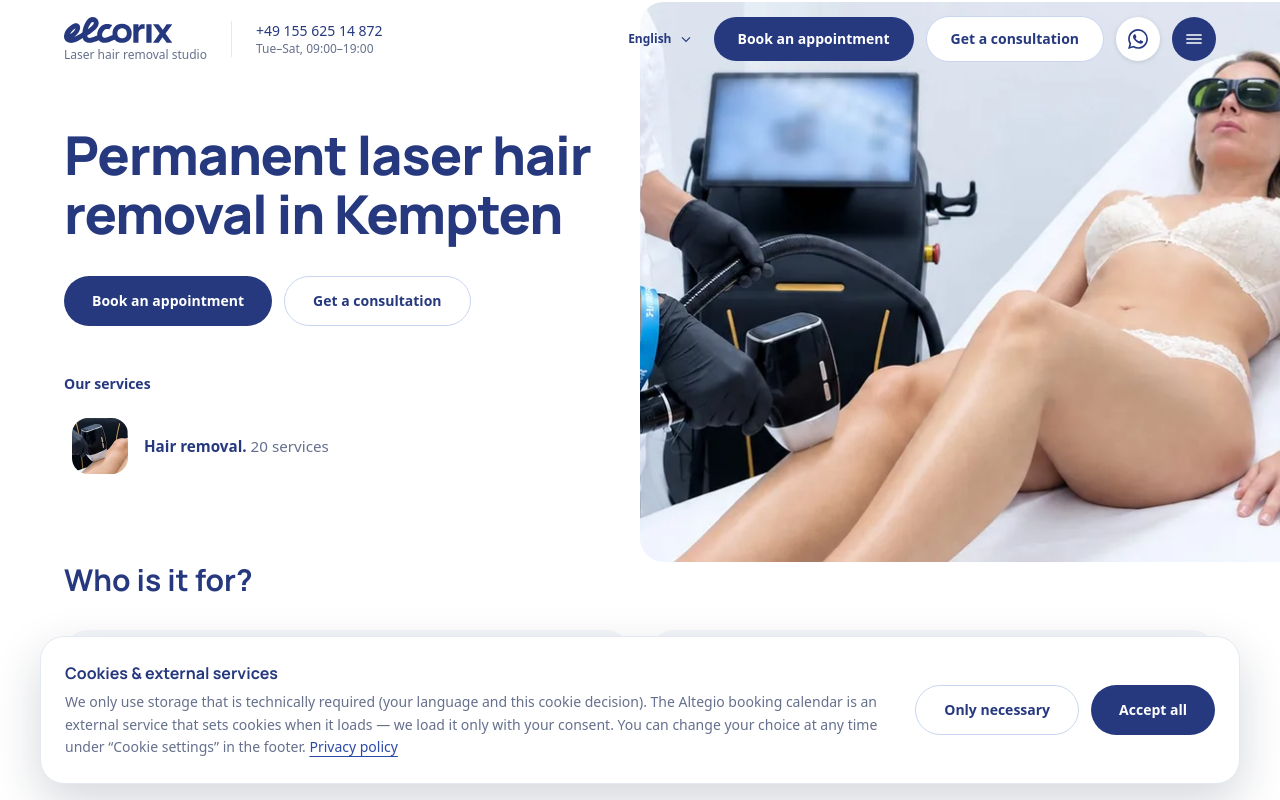
Test: internationalization › switches nav labels to German and persists the choice
Step 1. Click the button with aria-label "Language" → {"x": 661, "y": 39}, box [620,23,702,55]
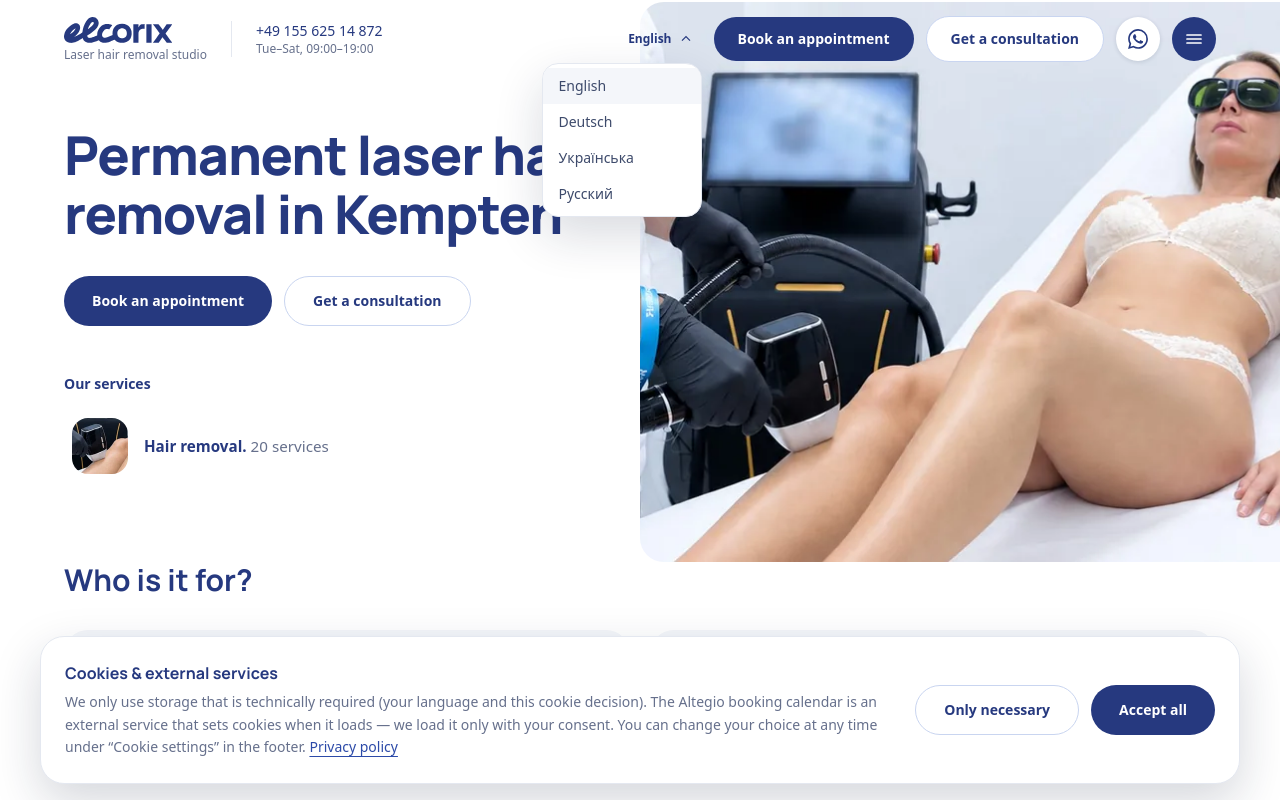
Step 2. Click the option "Deutsch" → {"x": 585, "y": 122}, box [558,112,612,131]
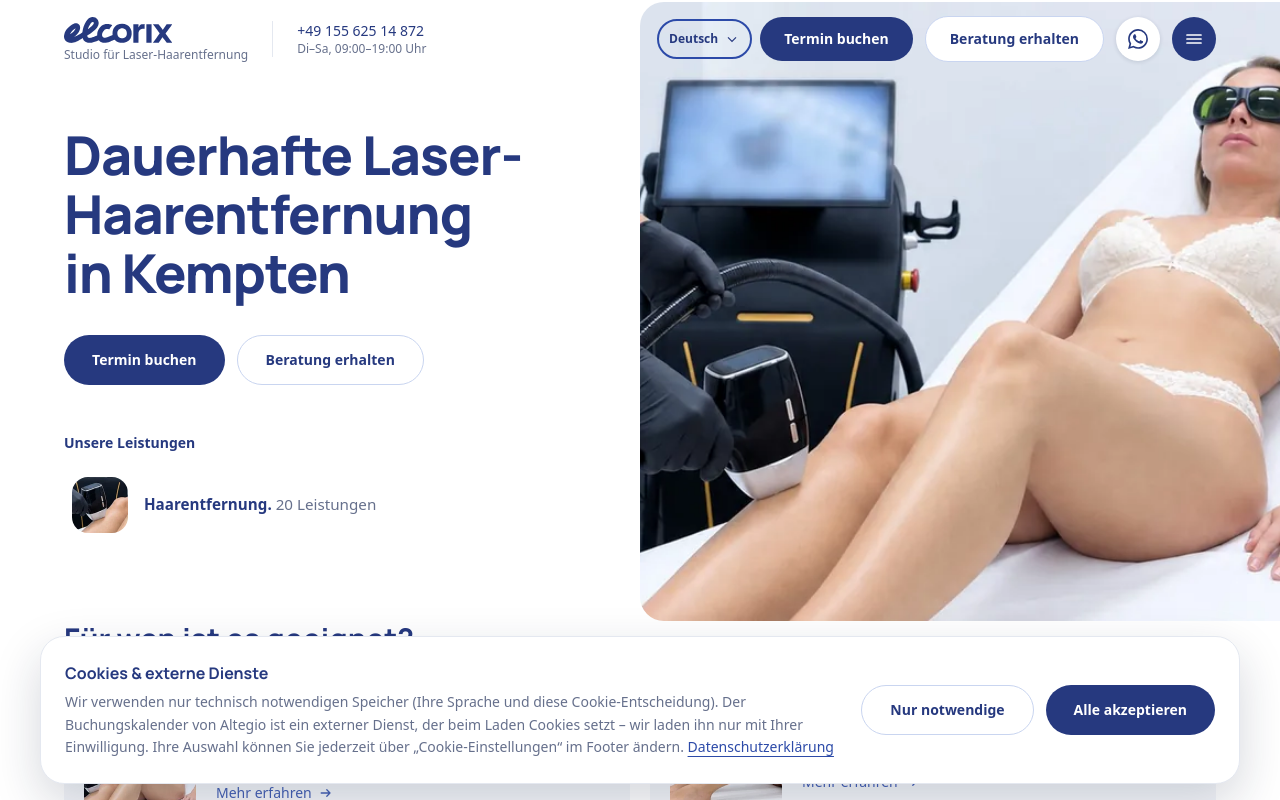
// The anchor menu is collapsed until the hamburger is pressed.
Step 3. Click the button with test id "menu-toggle" → {"x": 1194, "y": 39}, box [1172,17,1216,61]
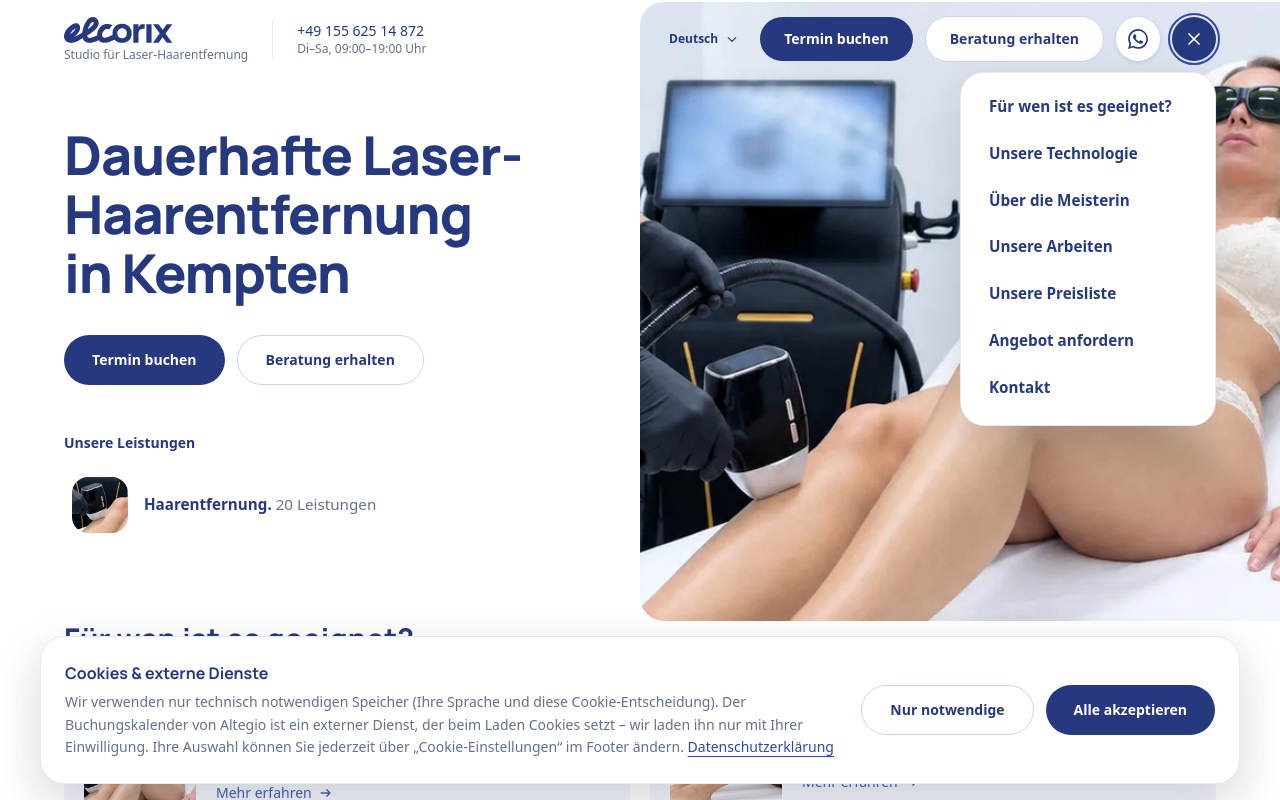
Now the link "Für wen ist es geeignet?" is shown, box [989,96,1172,116]
Now the link "Unsere Preisliste" is shown, box [989,283,1116,303]
Now the link "Kontakt" is shown, box [989,377,1050,397]
